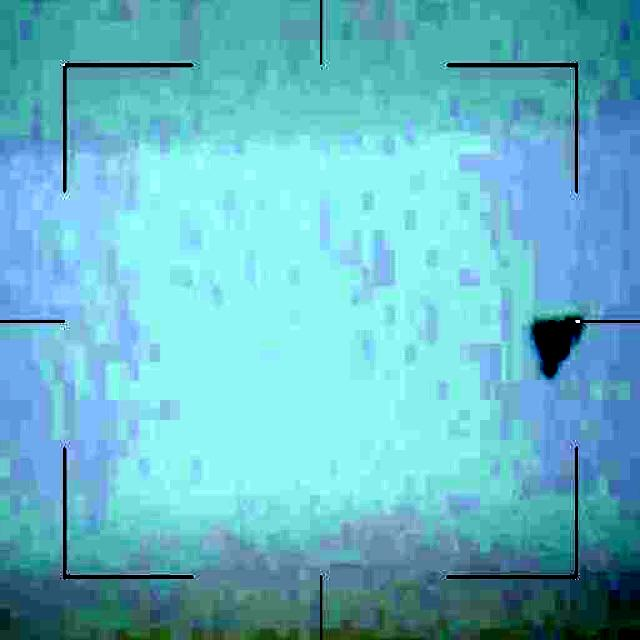bird: (526, 310, 590, 380)
